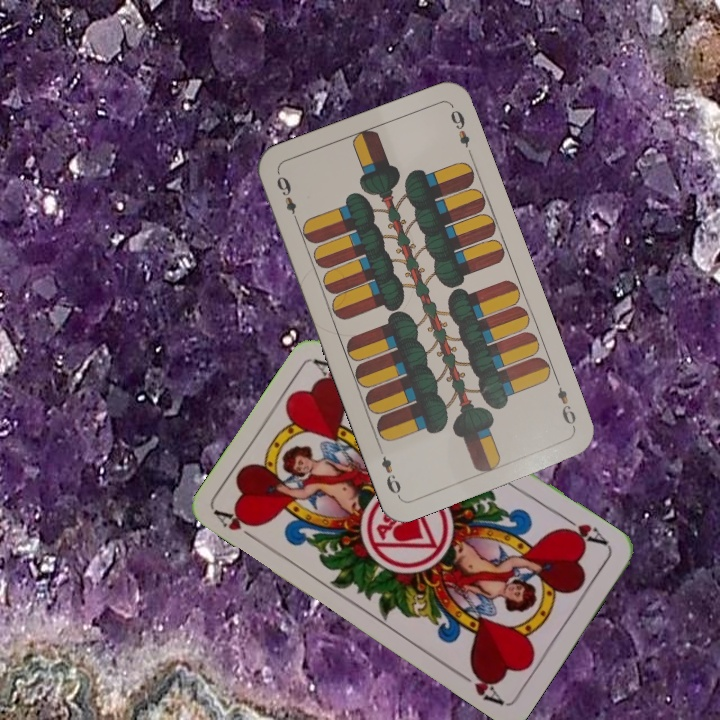E9: (272, 169, 302, 226), (551, 375, 579, 432)
HA: (212, 505, 265, 546), (556, 511, 611, 549)
